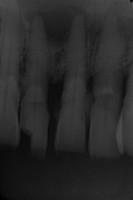Furcation Involvement: (26, 0, 88, 46)
